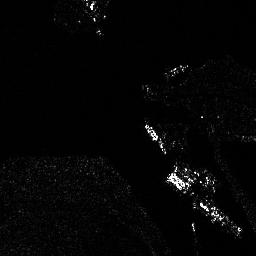ship: (144, 124, 167, 153)
